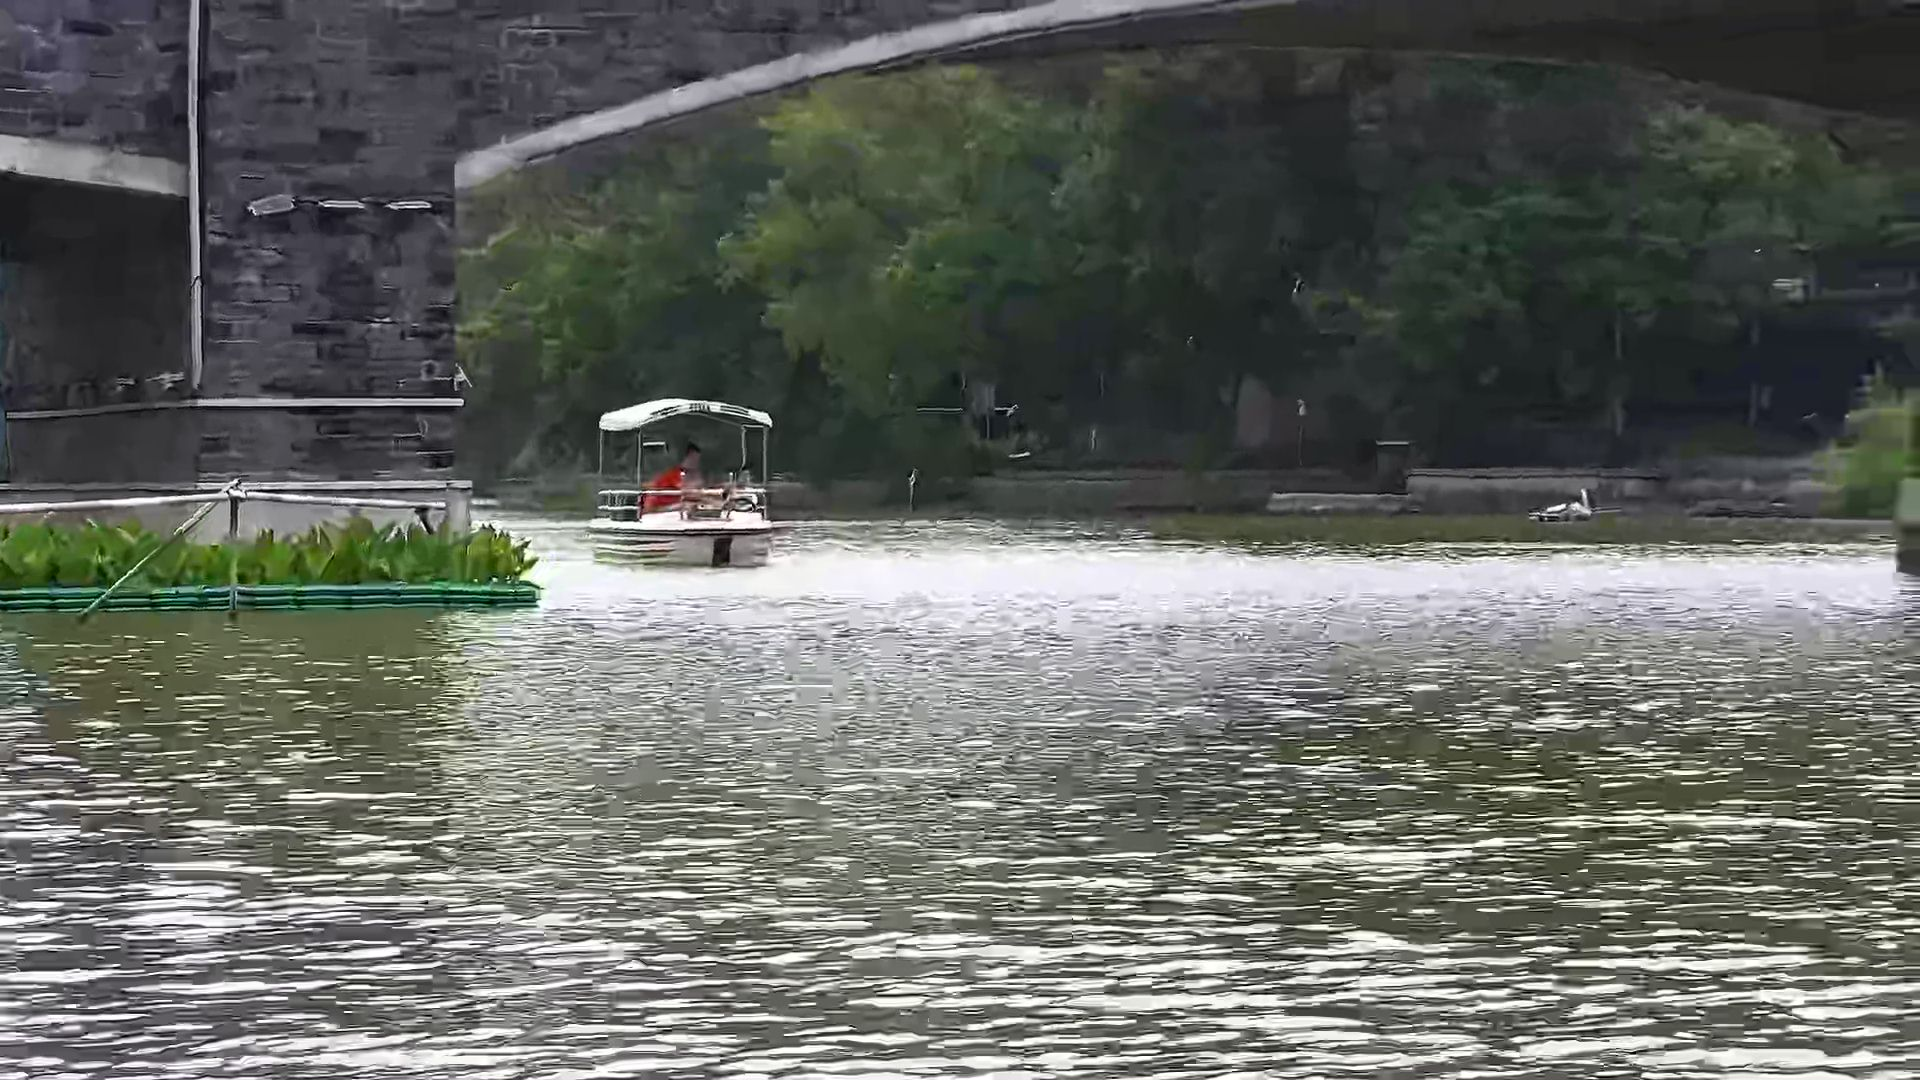boat: (585, 388, 779, 574)
grass: (8, 502, 538, 625)
